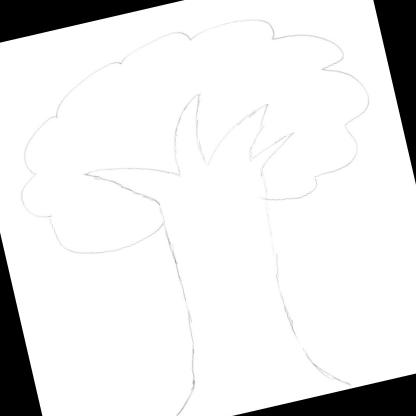branch_sharp: (67, 68, 305, 219)
crown_cloud: (0, 0, 397, 266)
trunk_straight: (162, 216, 308, 369)
